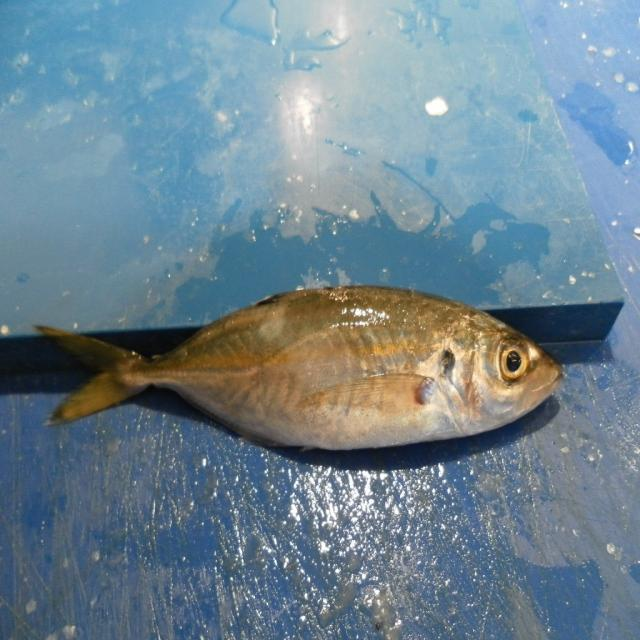Hourse-Mackerel-istavrit-: (35, 287, 565, 455)
